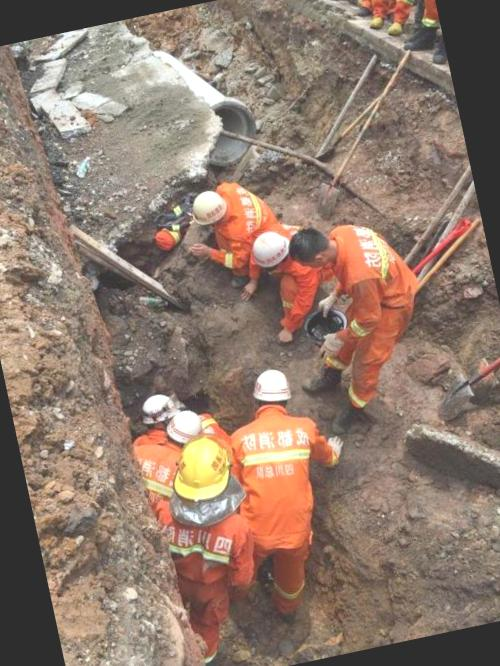no_helmet: (284, 222, 336, 276)
